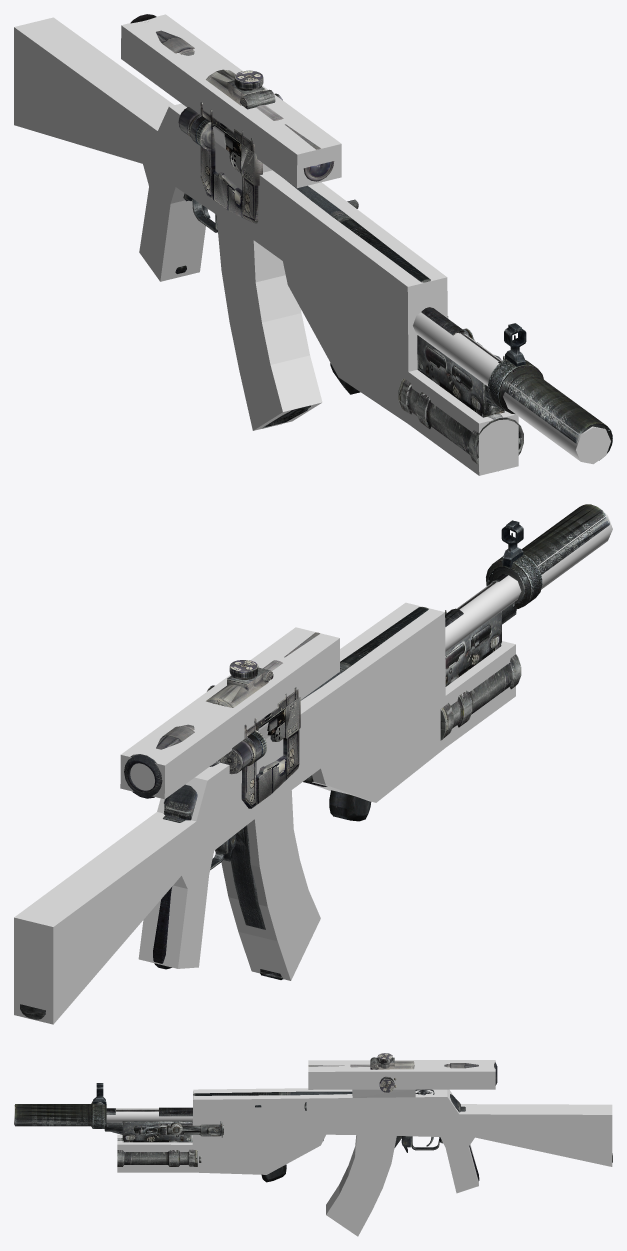
Rendered from abakan.FBX.
3 renders of one model, top to bottom at view 1: azimuth 30°, elevation 25°; view 2: azimuth 150°, elevation 25°; view 3: azimuth 270°, elevation 25°, orthographic. The views are drawn at different scales.
Visible parts, largest first — view 1: lod, skin; view 2: lod, skin; view 3: lod, skin.
Part boxes in pixels (<box>): lod: <box>14,14,610,475</box>; skin: <box>130,14,612,464</box>; lod: <box>14,512,612,1024</box>; skin: <box>20,504,609,1019</box>; lod: <box>14,1060,612,1236</box>; skin: <box>15,1053,612,1182</box>.
Size of the model in its own units: 7.94 by 32.7 by 101.
